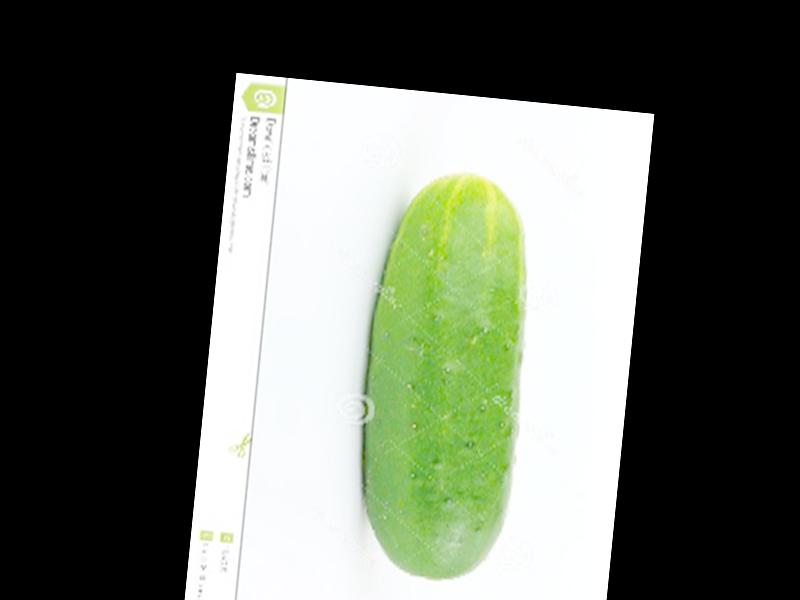Cucumber: (346, 167, 539, 587)
